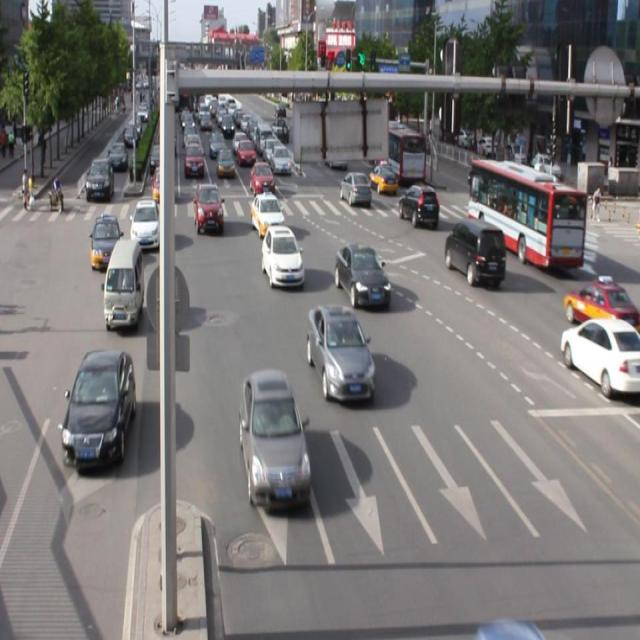car: (240, 368, 310, 511), (62, 348, 136, 469), (306, 304, 375, 401), (560, 316, 640, 394), (563, 278, 640, 341), (444, 217, 504, 284), (335, 242, 391, 313), (262, 225, 304, 289), (130, 198, 160, 250)
truck: (104, 239, 145, 331)
van: (469, 160, 584, 268)
